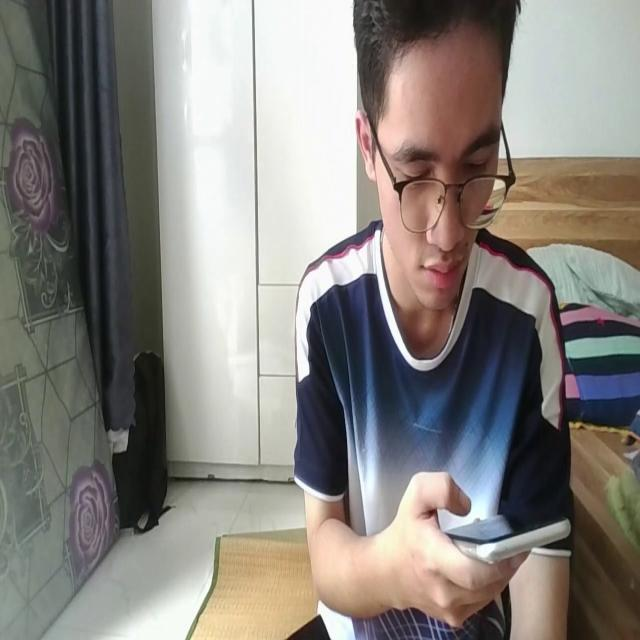phone: (430, 493, 571, 572)
student: (292, 0, 576, 640)
